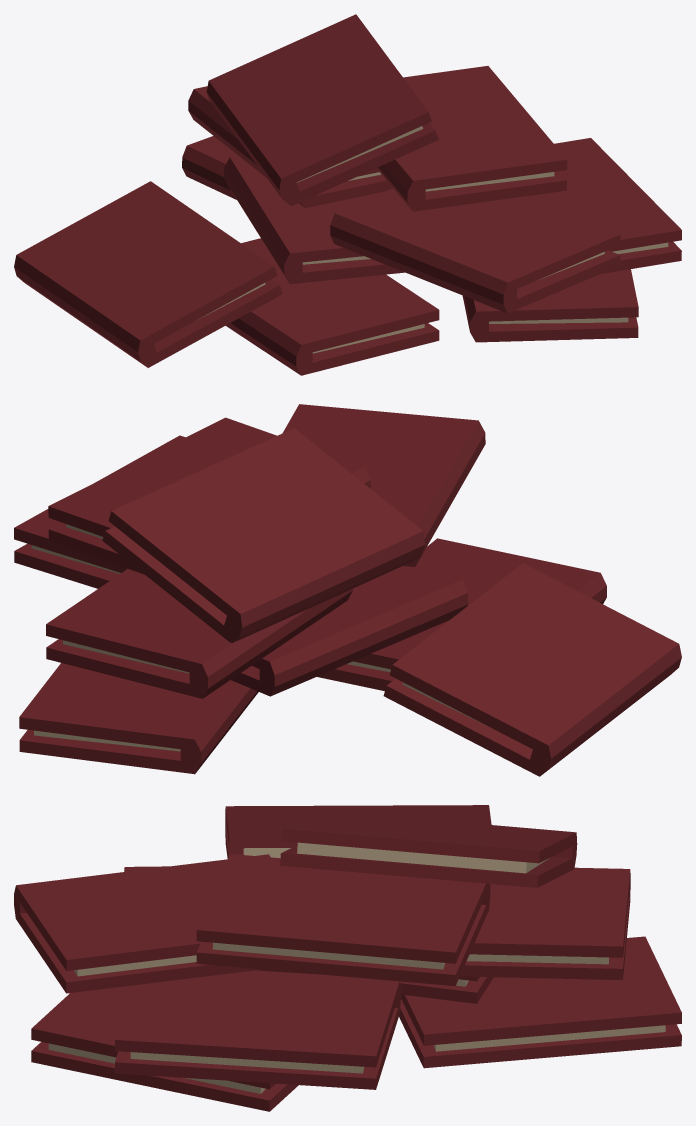
File: books.gltf
3 views of the same model, one above another, from view 1: azimuth 30°, elevation 25°; view 2: azimuth 150°, elevation 25°; view 3: azimuth 270°, elevation 25° (orthographic). The views are drawn at different scales.
Visible parts, largest first — view 1: Cube.008; view 2: Cube.008; view 3: Cube.008.
Part boxes in pixels (bbox=[...]): Cube.008: bbox=[14, 14, 681, 375]; Cube.008: bbox=[14, 404, 681, 776]; Cube.008: bbox=[14, 805, 681, 1111].
Bounding box in the file's own units: 1.62 × 0.4984 × 1.62.
